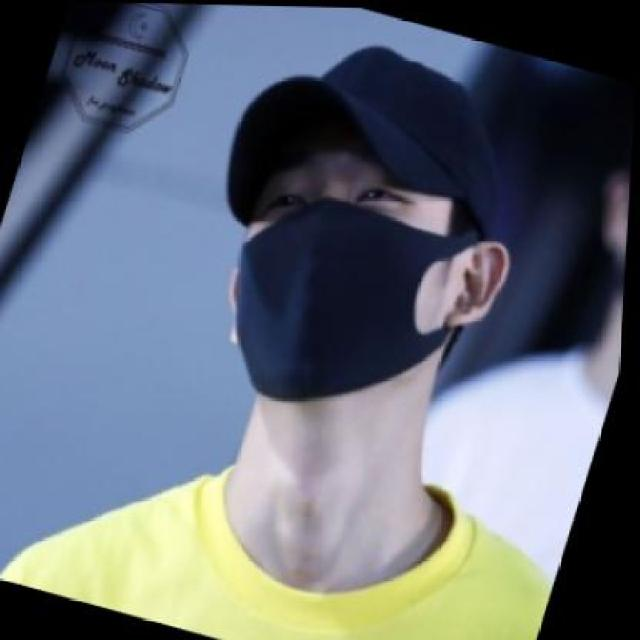hat: (207, 13, 535, 285)
